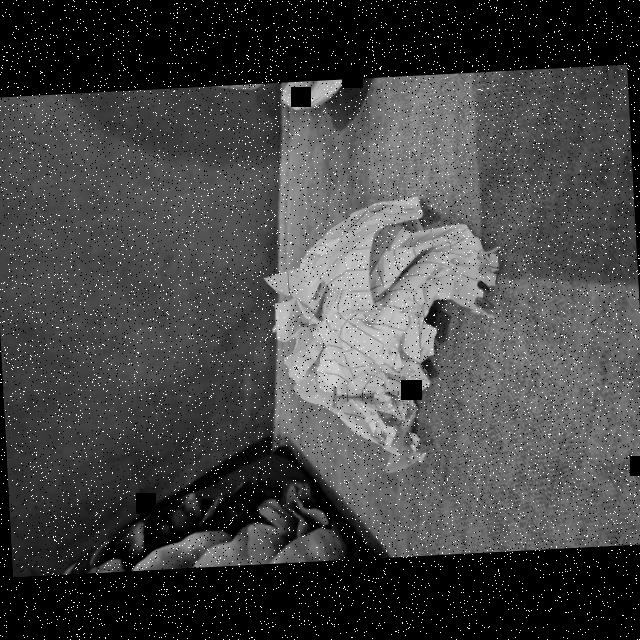scrap_paper: (267, 191, 498, 468)
